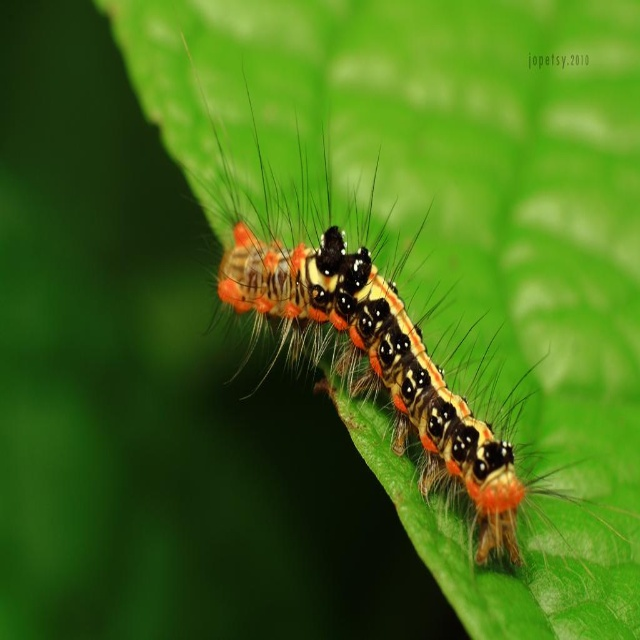Caterpillar: (178, 13, 638, 590)
